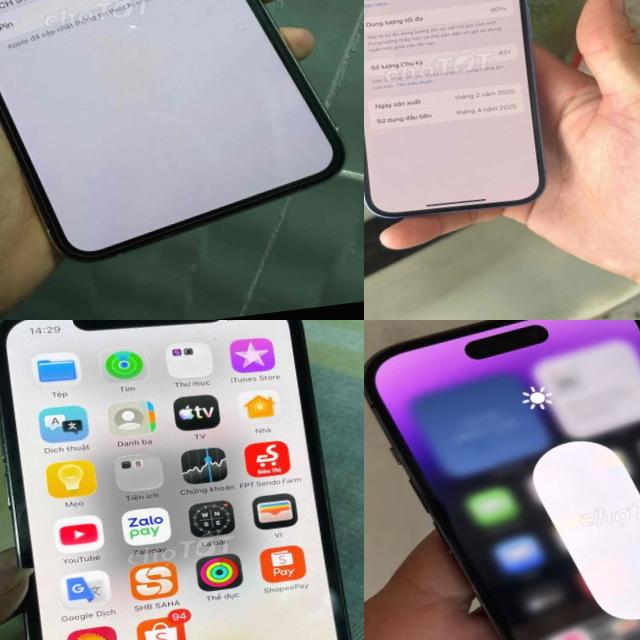gen_11: (0, 0, 364, 284)
gen_12_13: (0, 320, 364, 640)
gen_14: (364, 320, 640, 640)
gen_16: (364, 0, 545, 217)
scratch: (228, 14, 268, 42), (110, 243, 141, 266)
